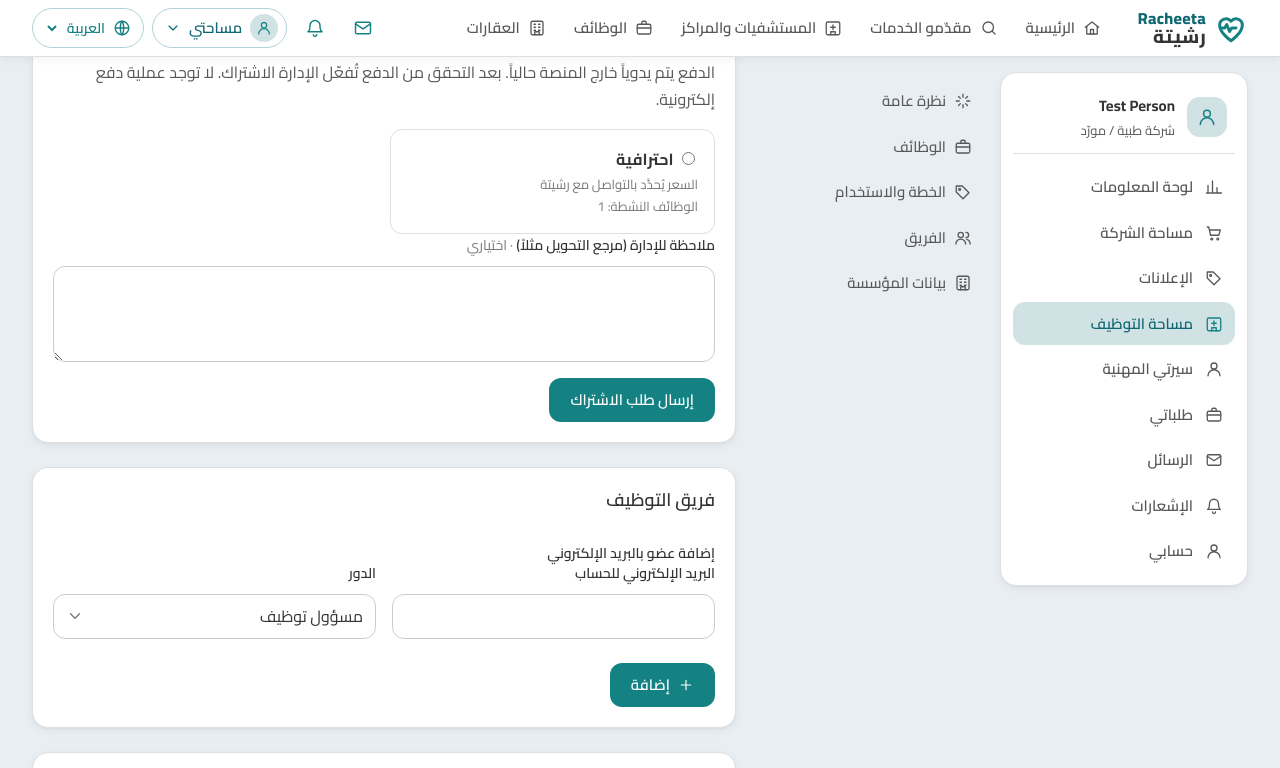
Scenario: EmployerWorkspacePage › shows jobs, usage meters and lets the owner request a plan
This screenshot has width=1280, height=768.
(page scrolled)
What coordinates should you click on to do the following:
click the button "إرسال طلب الاشتراك"
I would click on:
 (632, 400)
Its box is [549,378,715,422].
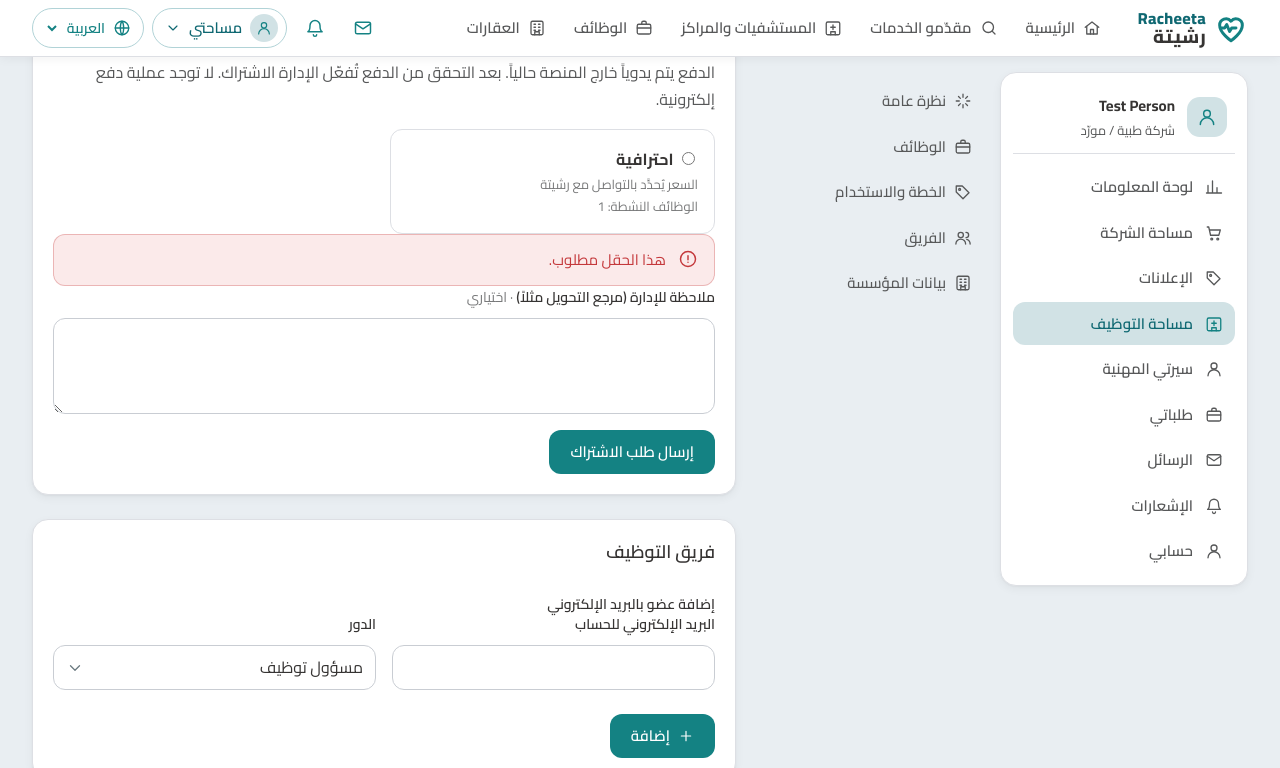
What coordinates should you click on to do the following:
click the radio button labelled "احترافية السعر يُحدَّد بالتواصل مع رشيتة الوظائف النشطة: 1"
I would click on:
 (688, 159)
Its box is [682,152,695,165].
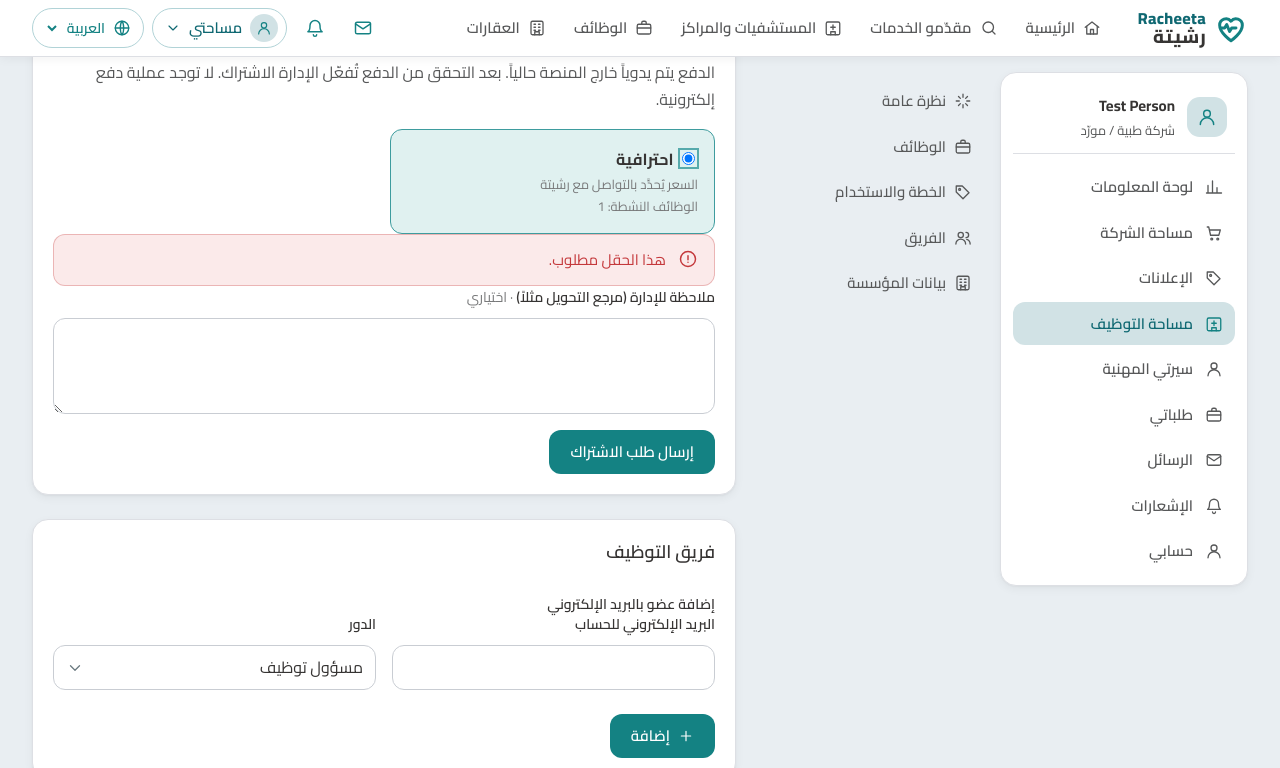
What coordinates should you click on to do the following:
click the button "إرسال طلب الاشتراك"
I would click on:
 (632, 452)
Its box is [549,430,715,474].
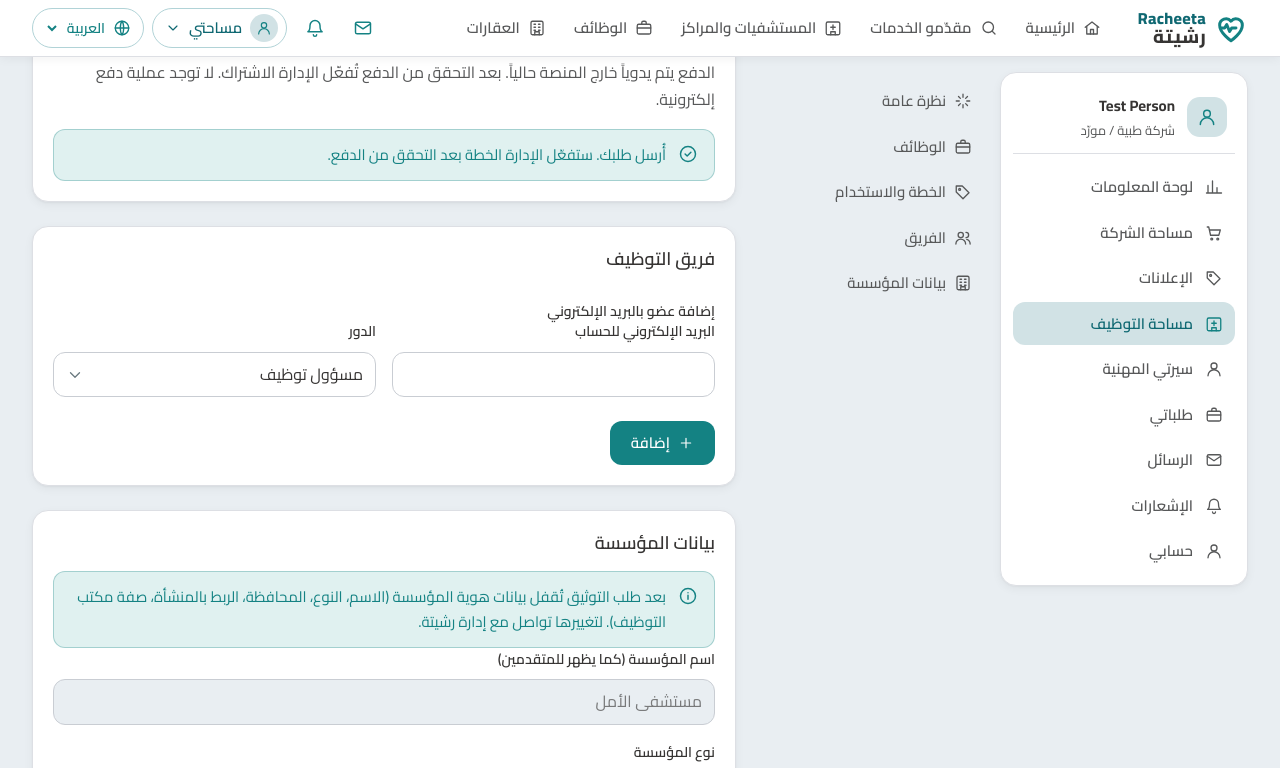
Now the text "أُرسل طلبك. ستفعّل الإدارة الخطة بعد التحقق من الدفع." is shown, box [328,140,666,169]
